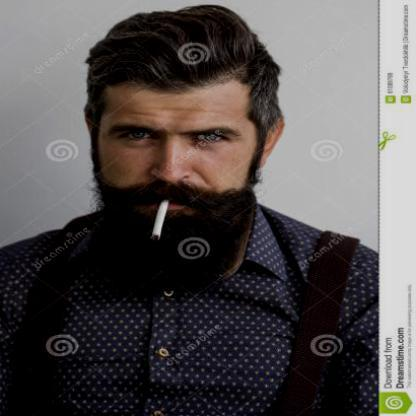cigarette: (148, 196, 176, 244)
person: (0, 2, 354, 415)
